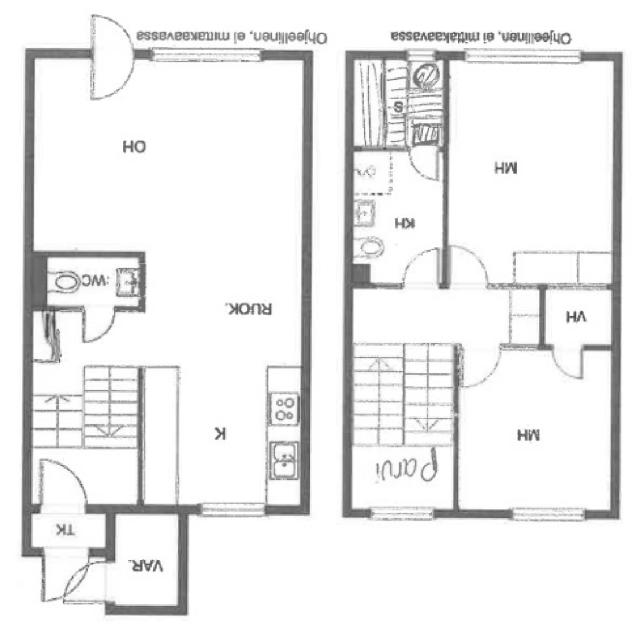door: (88, 10, 135, 104), (33, 454, 92, 516), (57, 550, 116, 606), (34, 544, 92, 600), (442, 240, 490, 293), (398, 243, 443, 296), (456, 344, 502, 391), (80, 302, 118, 350), (405, 144, 445, 184), (549, 344, 587, 384)
window: (143, 45, 264, 73), (456, 48, 580, 74), (191, 495, 272, 528), (503, 502, 592, 530), (361, 506, 441, 528), (400, 46, 440, 64)
zone: (26, 306, 306, 512), (33, 50, 308, 257), (443, 51, 619, 286), (454, 348, 618, 516), (346, 341, 456, 517), (348, 148, 448, 286), (346, 55, 444, 149), (341, 442, 456, 516), (110, 509, 181, 616), (36, 256, 145, 308), (539, 286, 617, 349), (23, 508, 112, 558)
